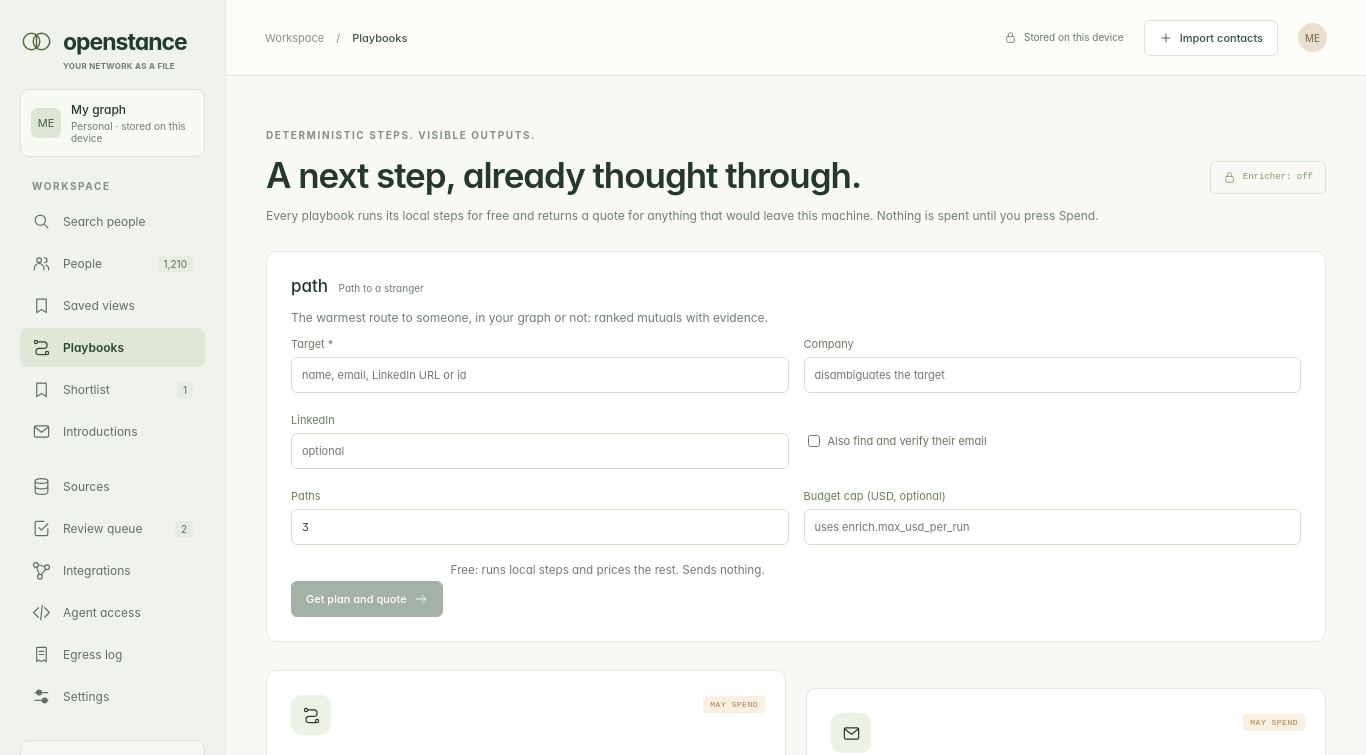
Test: playbook results, human-first (U4) › path with no paths says so
In the field labelled "Target *": point(540, 375) [291,357,788,393], type "Priya Raman"
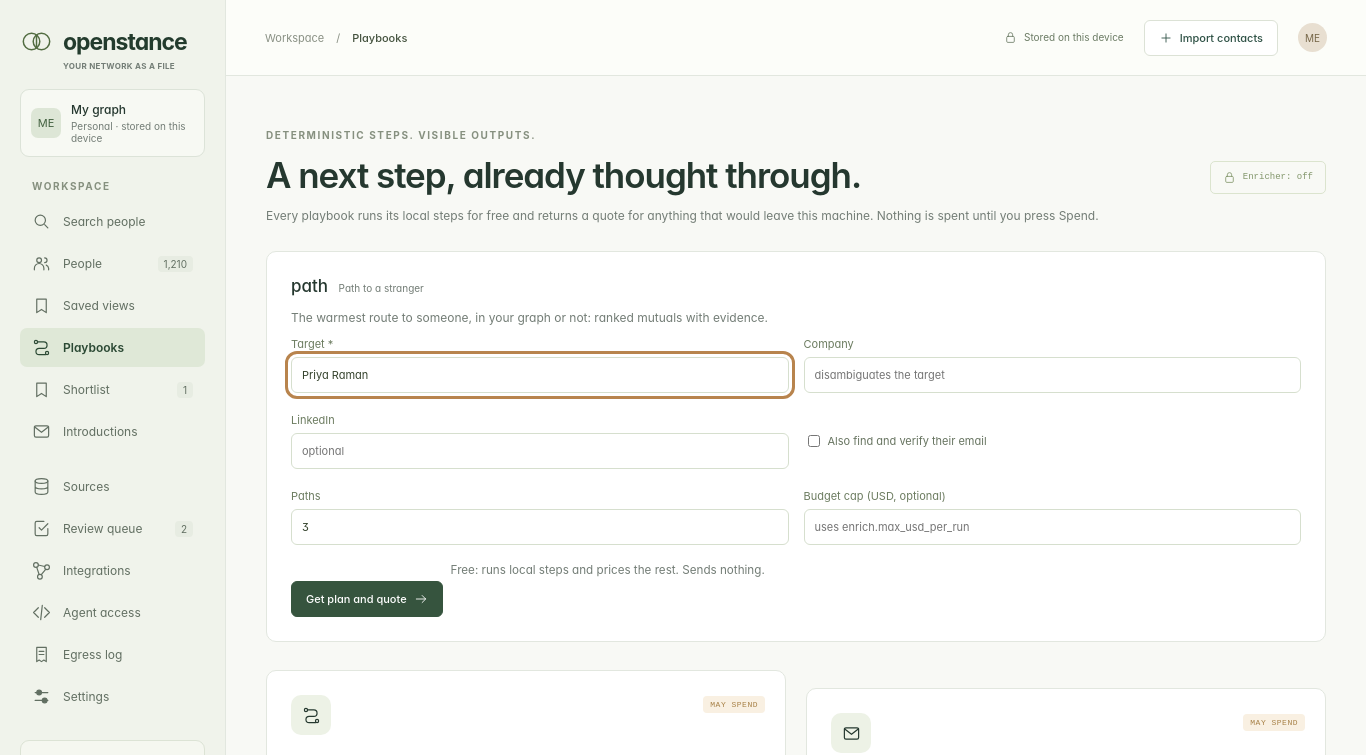
Click the button "Get plan and quote": point(367, 599) [291,581,443,617]
(page scrolled)
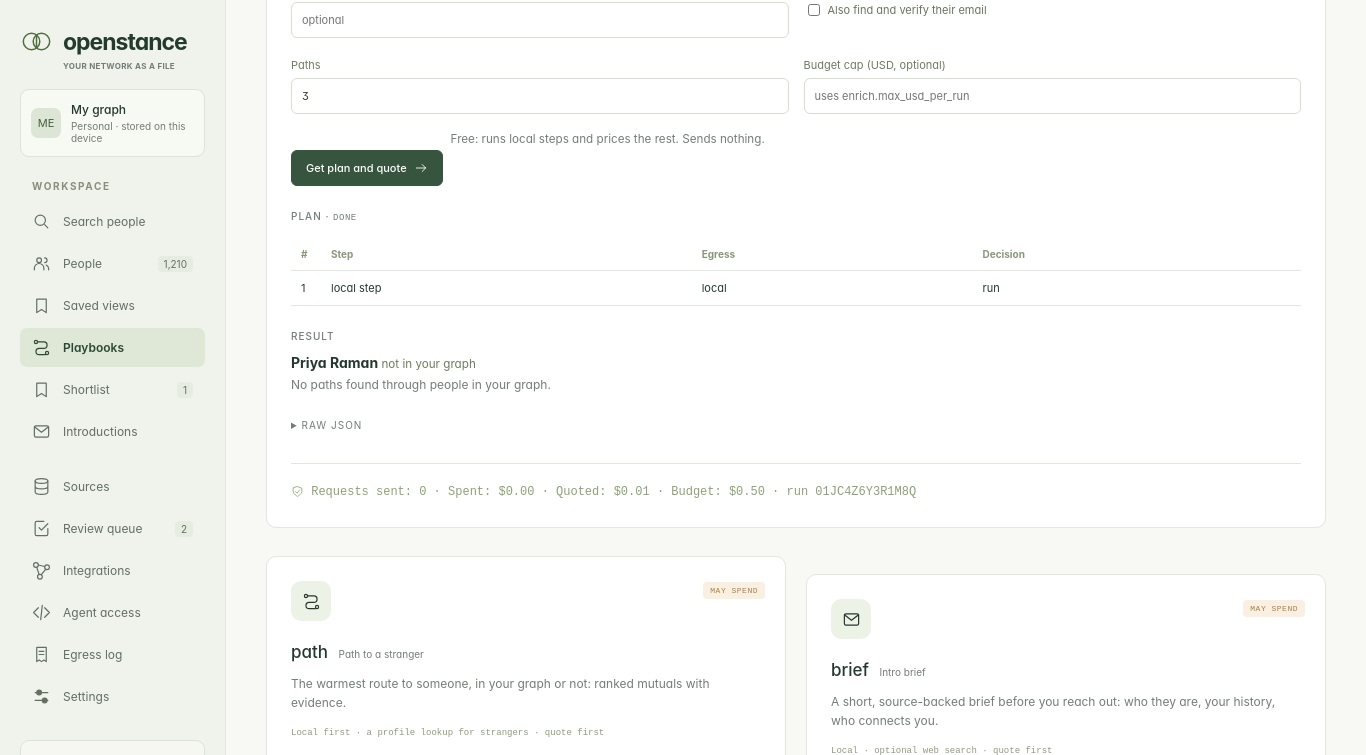
Expected: the text "Requests sent: 0" is shown, [291,463,1301,503]
Expected: the text "not in your graph" is shown, [382,357,476,371]
Expected: the text "No paths found through people in your graph." is shown, [291,377,551,392]
